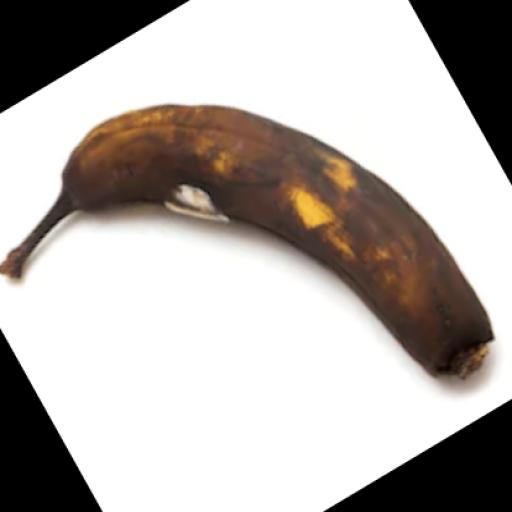banana-overripe: (0, 54, 512, 412)
